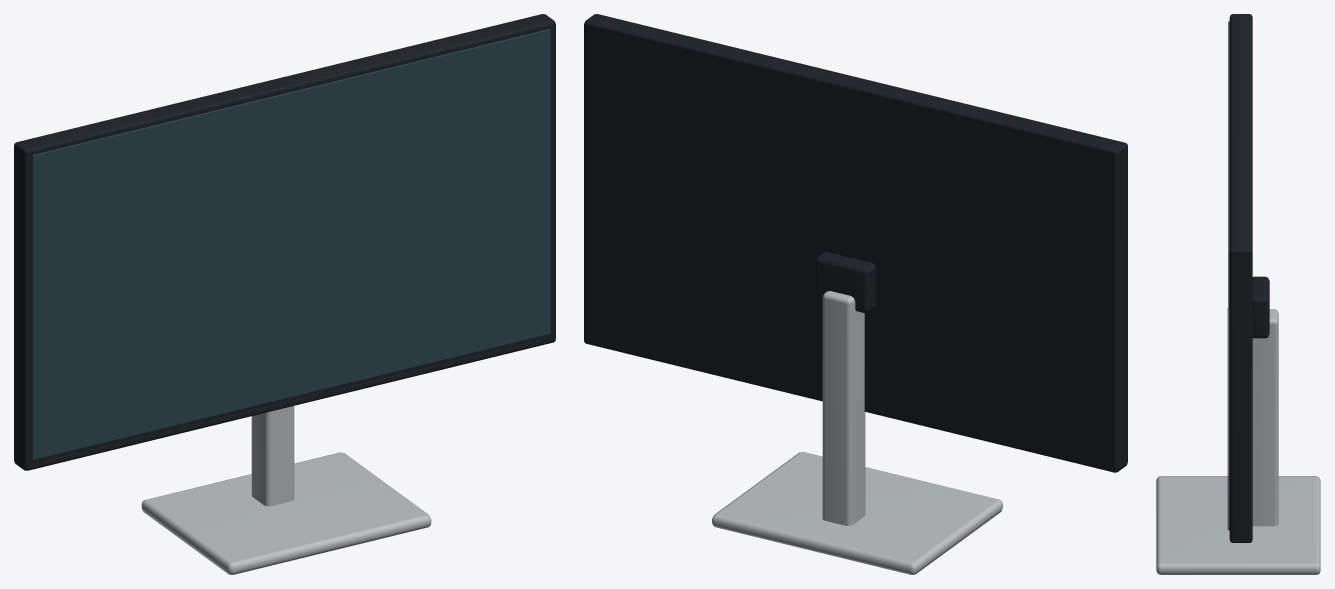
3 renders of one model, left to right at view 1: azimuth 30°, elevation 25°; view 2: azimuth 150°, elevation 25°; view 3: azimuth 270°, elevation 25°, orthographic. The views are drawn at different scales.
Parts seen in each view (by area): view 1: Neutral screen, Stand base, Monitor bezel, Stand foot dark underside; view 2: Monitor bezel, Stand base; view 3: Stand base, Monitor bezel, Neutral screen.
Part boxes in pixels (x1,y1,x2,y2): Neutral screen: (32,29,550,459); Stand base: (141,406,431,574); Monitor bezel: (14,14,555,470); Stand foot dark underside: (43,340,541,462); Monitor bezel: (584,14,1127,472); Stand base: (712,291,1002,574); Stand base: (1156,309,1320,574); Monitor bezel: (1229,14,1269,542); Neutral screen: (1228,21,1229,530).
Bounding box in the file's own units: 0.614 × 0.4825 × 0.18.
